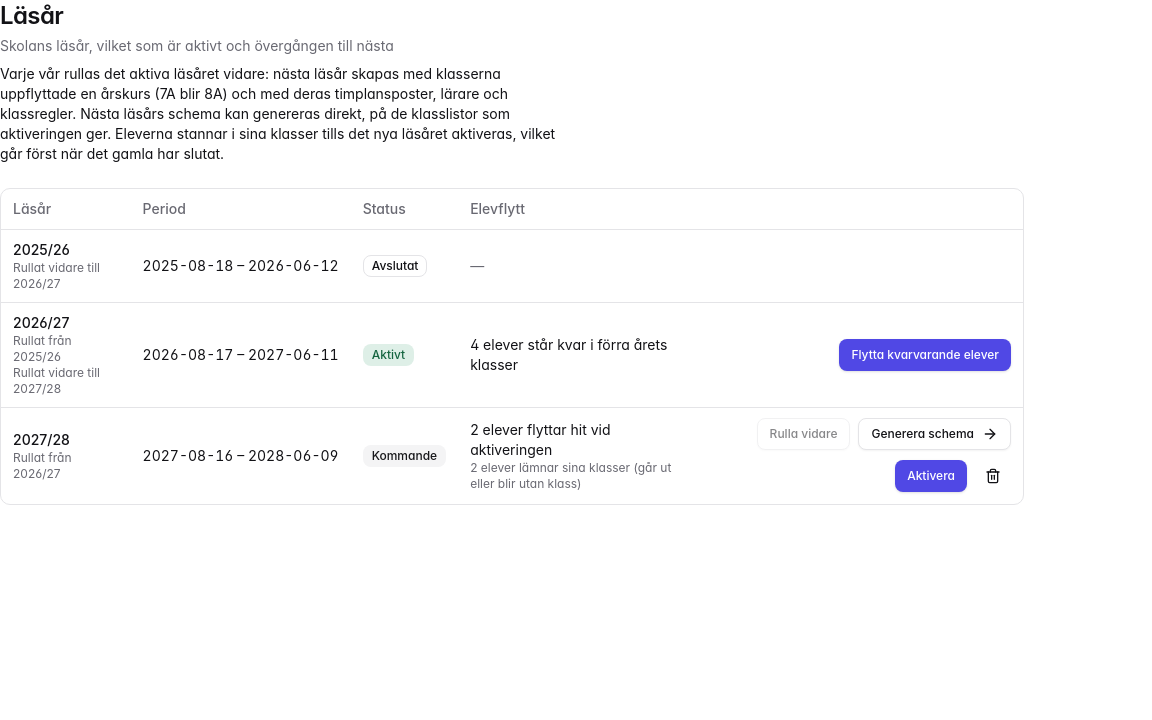
Test: YearsPage › shows a membership notice without disabling the activation
The width and height of the screenshot is (1152, 720).
Click the button "Aktivera" at (931,476), box 895,460 -> 967,492
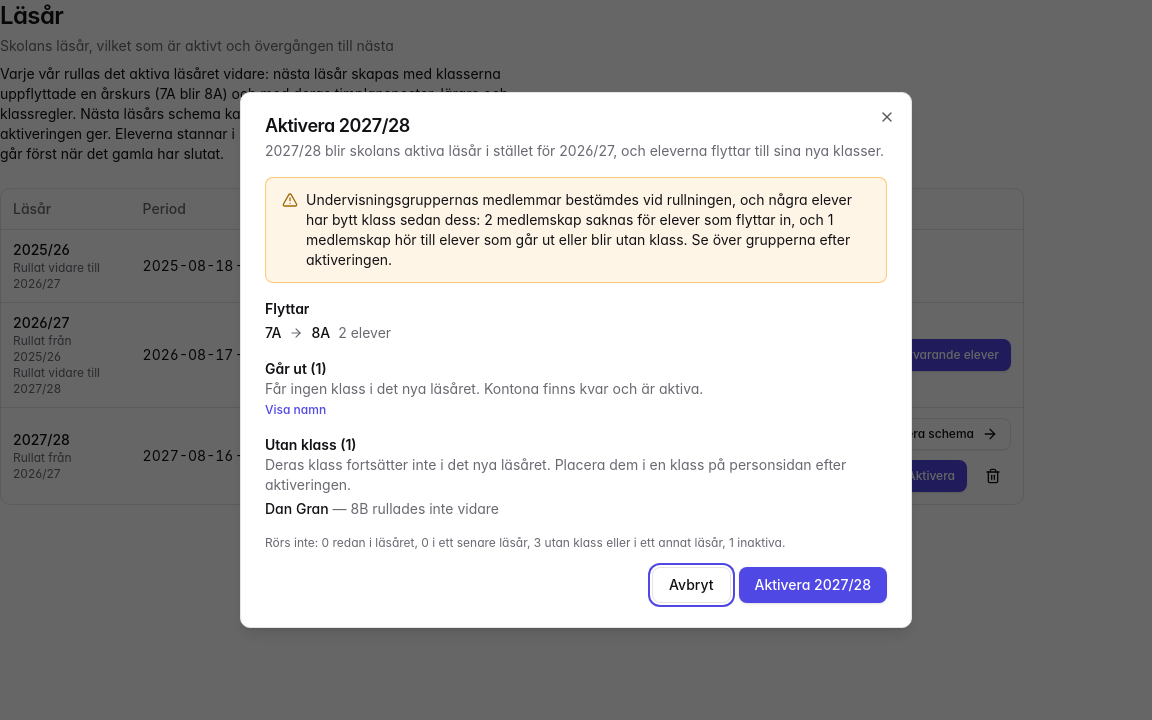
expect the text "2 medlemskap saknas för elever som flyttar in, och 1 medlemskap hör till elever som går ut eller blir utan klass" is shown: met, box 306,191 -> 852,268
expect the button "Aktivera 2027/28" is enabled: met, box 738,567 -> 887,603
